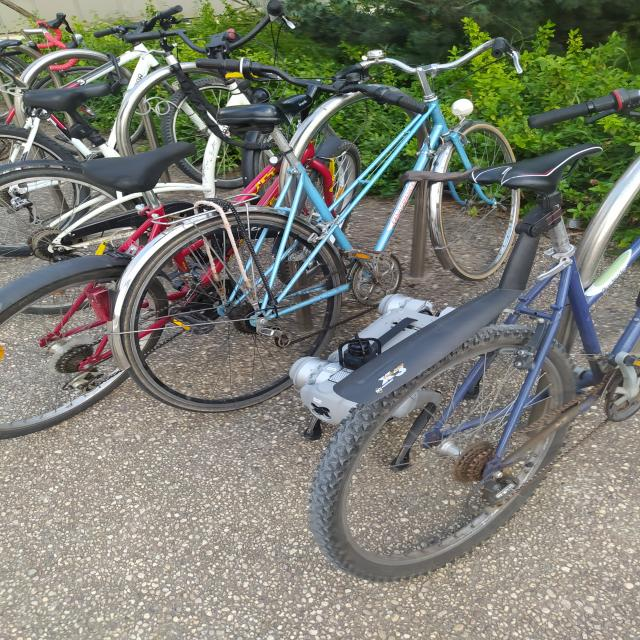unitree-go1-robot: (278, 275, 473, 456)
